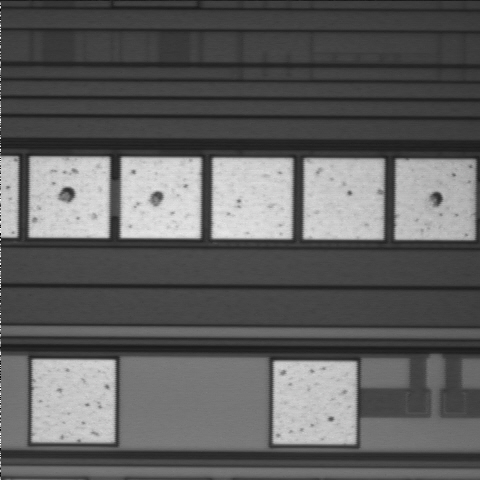pad: (32, 360, 115, 442), (274, 361, 356, 444), (212, 158, 292, 239), (121, 158, 201, 238), (30, 157, 109, 238), (304, 159, 383, 239), (396, 160, 474, 239)
